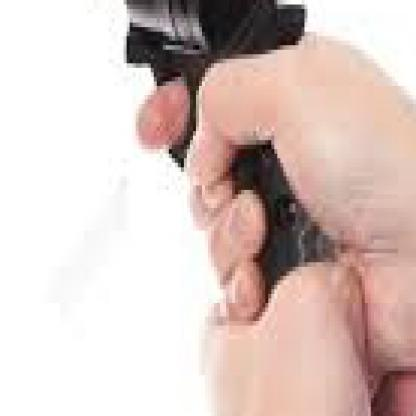gun: (75, 0, 347, 290)
